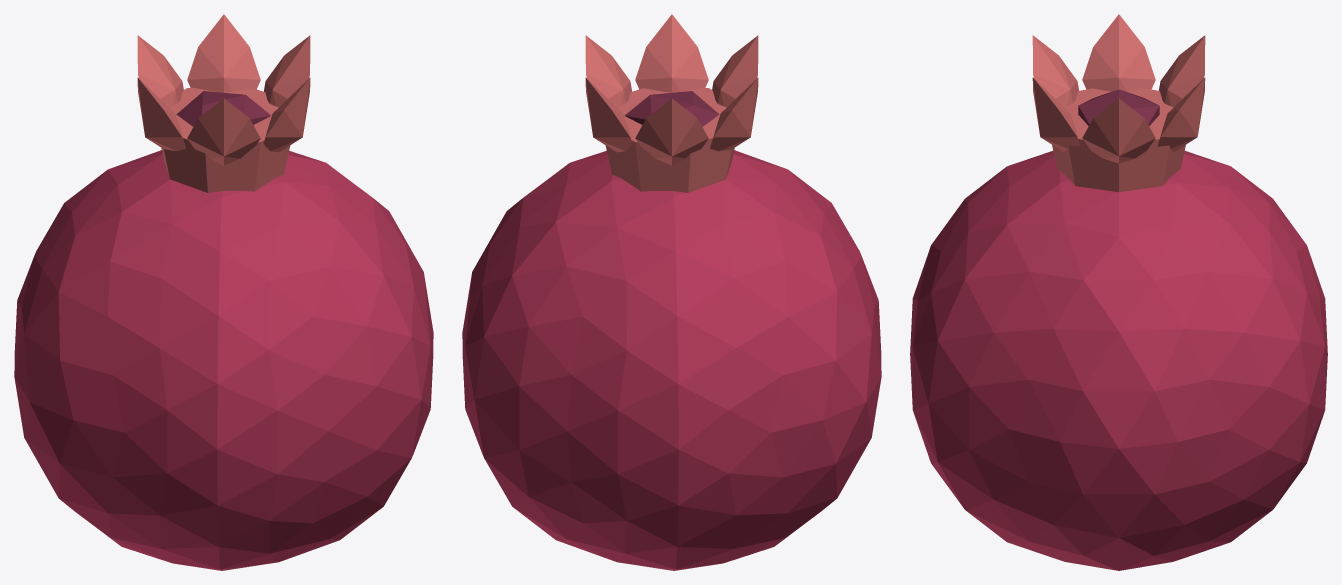
File: PomegranateFruit.glb
3 renders of one model, left to right at view 1: azimuth 30°, elevation 25°; view 2: azimuth 150°, elevation 25°; view 3: azimuth 270°, elevation 25°, orthographic.
Parts seen in each view (by area): view 1: PomegranateFruit_PomegranateRind, PomegranateFruit_PomegranateCalyx, PomegranateFruit_PomegranateCrownInside; view 2: PomegranateFruit_PomegranateRind, PomegranateFruit_PomegranateCalyx, PomegranateFruit_PomegranateCrownInside; view 3: PomegranateFruit_PomegranateRind, PomegranateFruit_PomegranateCalyx, PomegranateFruit_PomegranateCrownInside.
Part boxes in pixels (x1,y1,x2,y2): PomegranateFruit_PomegranateRind: [14, 150, 433, 570]; PomegranateFruit_PomegranateCalyx: [137, 14, 310, 192]; PomegranateFruit_PomegranateCrownInside: [176, 91, 271, 126]; PomegranateFruit_PomegranateRind: [462, 150, 881, 570]; PomegranateFruit_PomegranateCalyx: [585, 14, 758, 192]; PomegranateFruit_PomegranateCrownInside: [624, 91, 719, 126]; PomegranateFruit_PomegranateRind: [910, 151, 1327, 570]; PomegranateFruit_PomegranateCalyx: [1032, 14, 1205, 192]; PomegranateFruit_PomegranateCrownInside: [1078, 89, 1159, 125].
Bounding box in the file's own units: 1.03 × 1.26 × 0.965.
